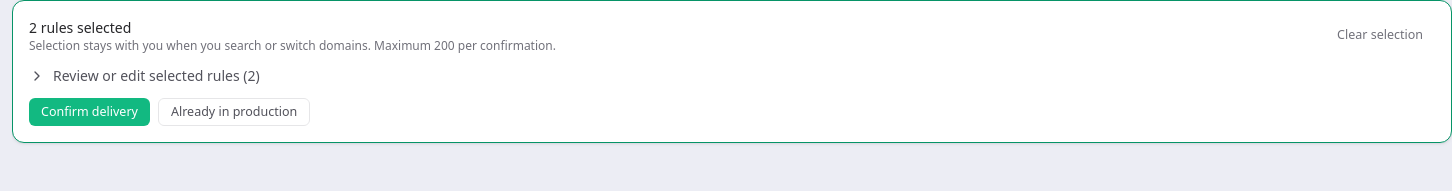
Intent delivery UI › refuses selecting two revisions of the same rule
Step 1. Click the button "Confirm delivery" → (90, 112), box [29,98,150,126]
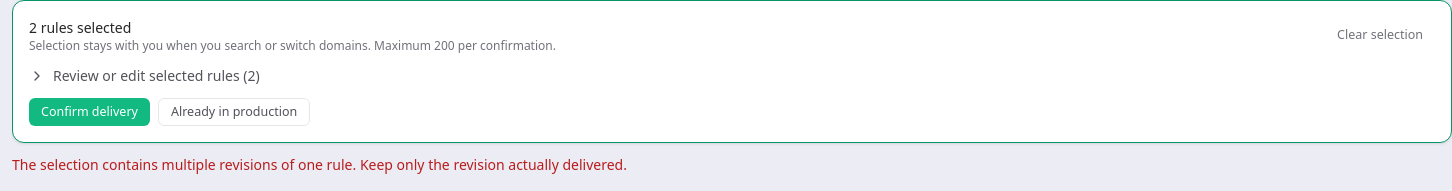
Check: the text "multiple revisions of one rule" is shown, box [12,155,627,174]
